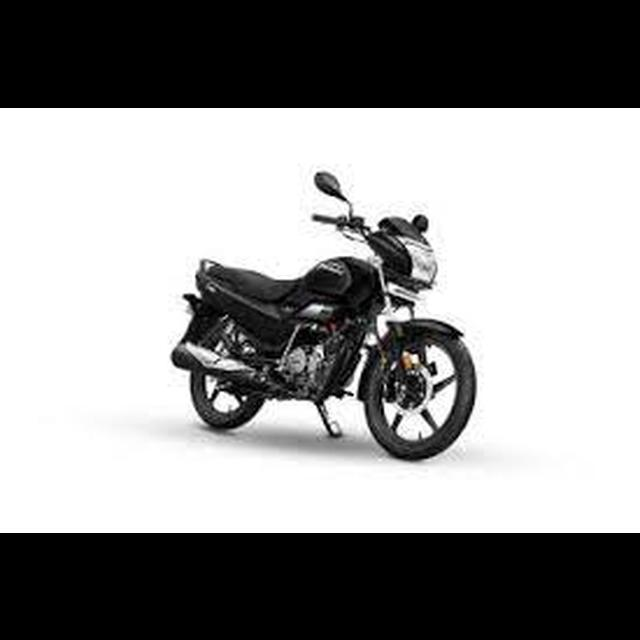motorcycle: (167, 167, 480, 464)
